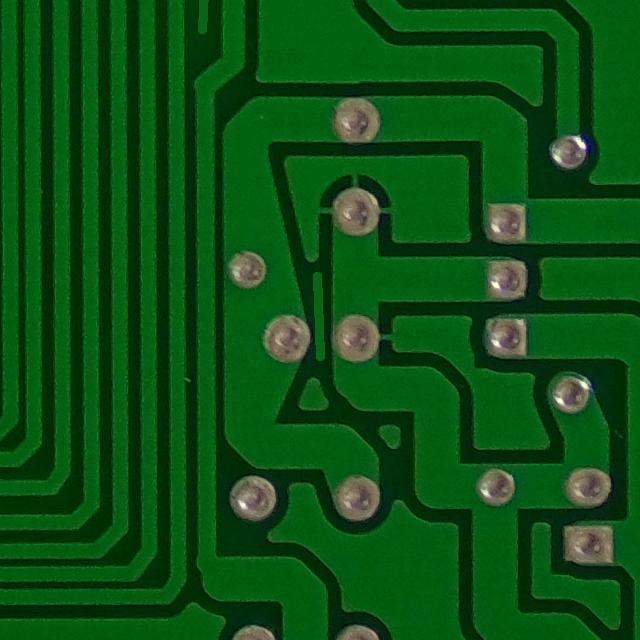spurious_copper: (286, 254, 354, 386)
